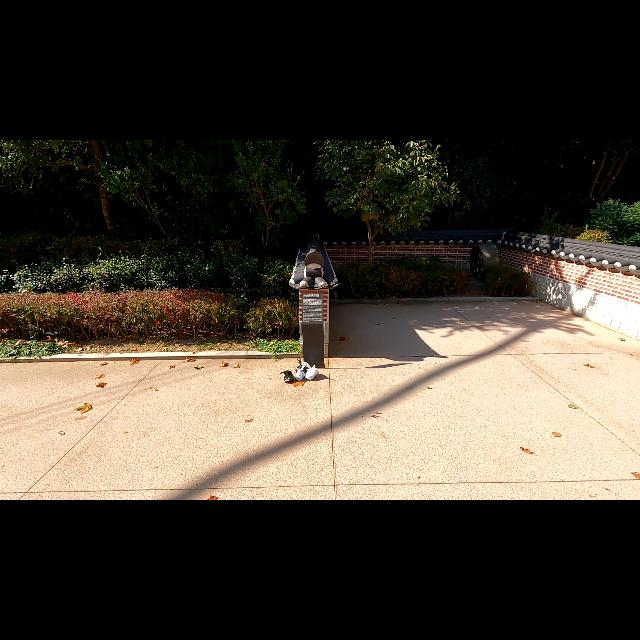trash: (302, 362, 320, 382), (292, 364, 306, 382), (294, 357, 308, 375), (281, 370, 295, 384)
